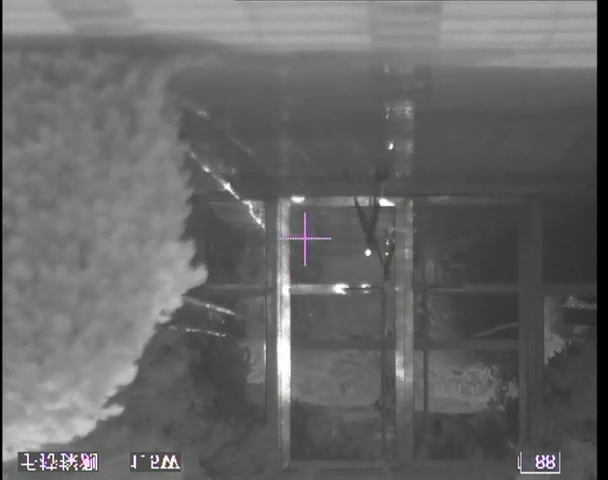my: (364, 248, 372, 258)
